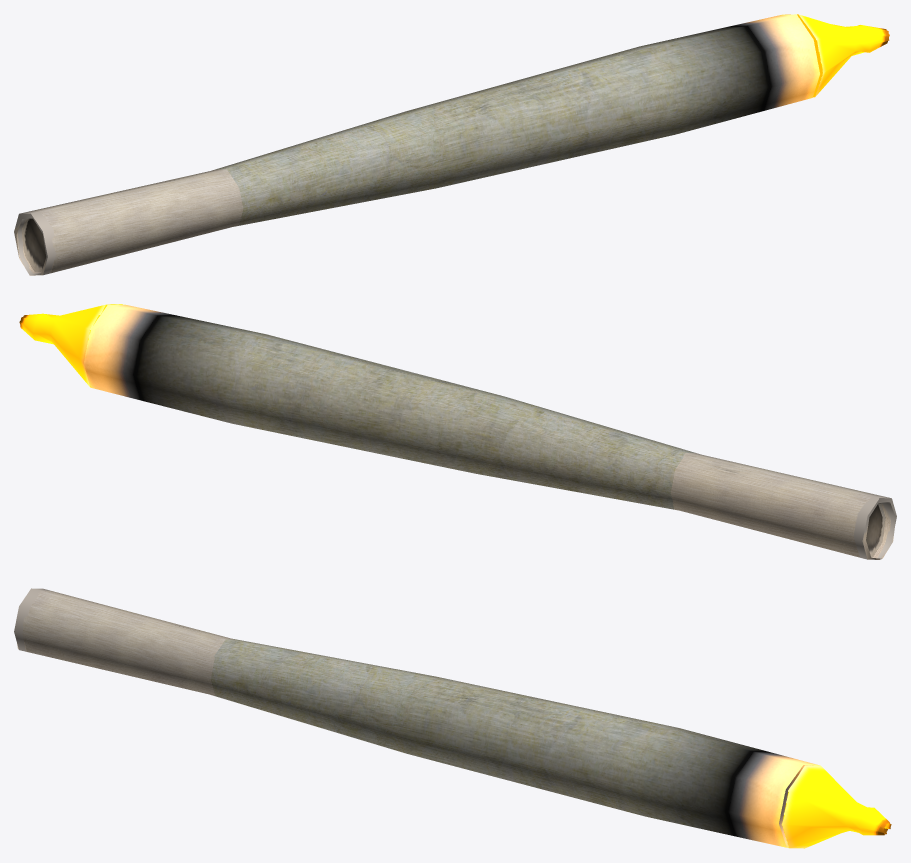
File: joint.fbx
3 renders of one model, top to bottom at view 1: azimuth 30°, elevation 25°; view 2: azimuth 150°, elevation 25°; view 3: azimuth 330°, elevation 25°, orthographic.
Visible parts, largest first — view 1: Cube.003; view 2: Cube.003; view 3: Cube.003.
Boxes of the visible parts, <box> form: Cube.003: <box>14,14,889,275</box>; Cube.003: <box>19,304,896,559</box>; Cube.003: <box>14,588,891,848</box>.
Size of the model in its own units: 5.96 by 0.5854 by 0.5962.
Materials: 1 (1 with a texture image).
